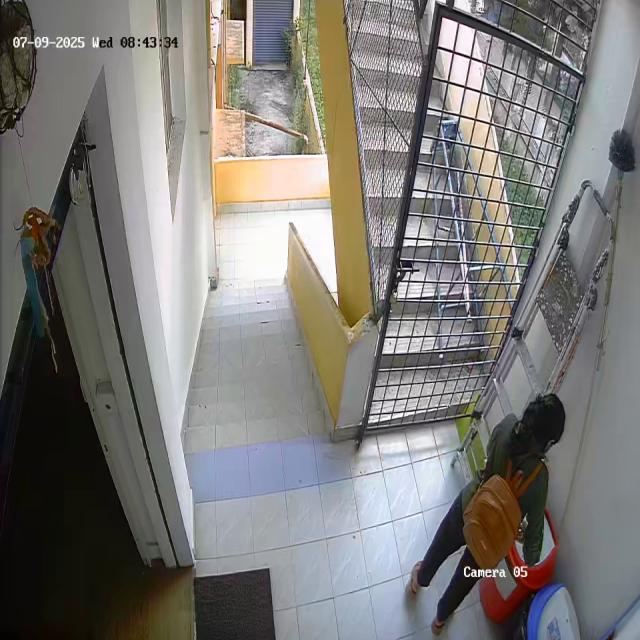person: (410, 394, 568, 634)
